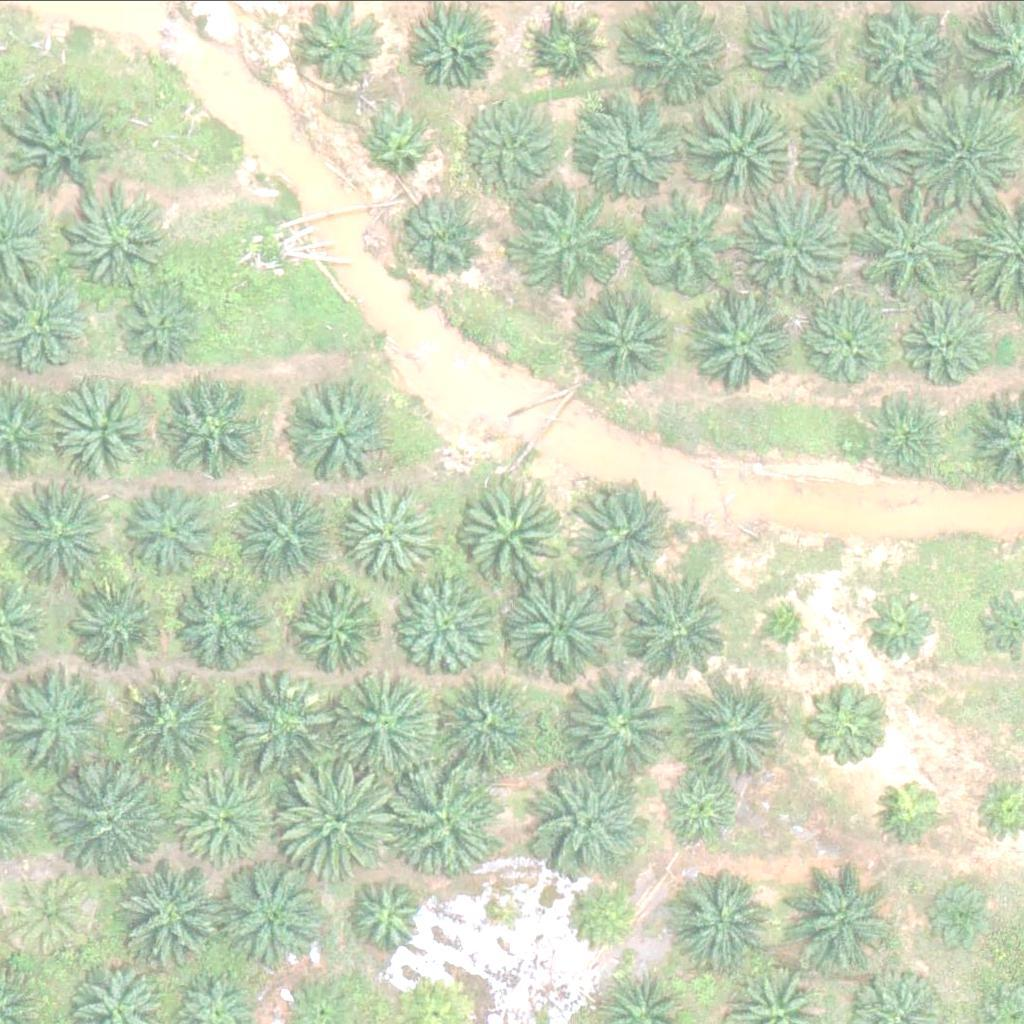Kelapa_Sawit: (909, 90, 1022, 203), (798, 90, 911, 203), (680, 91, 793, 204), (565, 90, 678, 203), (740, 193, 853, 306), (505, 574, 618, 687), (622, 577, 735, 690), (386, 759, 499, 872), (534, 762, 647, 875), (5, 89, 118, 202), (222, 669, 335, 782), (55, 762, 168, 875), (564, 671, 678, 783), (323, 667, 437, 779), (275, 765, 389, 877), (783, 858, 896, 970), (854, 187, 967, 299), (457, 479, 570, 591), (565, 482, 678, 594), (674, 666, 787, 778), (121, 856, 234, 968), (214, 861, 327, 973), (668, 868, 769, 968), (862, 4, 963, 104), (522, 202, 623, 302), (634, 196, 735, 296), (788, 290, 889, 390), (696, 290, 797, 390), (570, 284, 671, 384), (294, 387, 395, 487), (343, 480, 444, 580), (288, 582, 389, 682), (396, 575, 497, 675), (66, 193, 167, 293), (52, 384, 153, 484), (176, 766, 277, 866), (457, 95, 557, 195), (890, 287, 990, 387), (245, 482, 345, 582), (434, 668, 534, 768), (162, 378, 262, 478), (121, 482, 221, 582), (166, 570, 266, 670), (62, 573, 162, 673), (12, 667, 112, 767), (125, 675, 225, 775), (660, 763, 748, 851), (398, 192, 486, 280), (797, 678, 885, 766), (8, 868, 96, 956), (302, 2, 390, 89), (407, 6, 495, 93), (853, 581, 941, 668), (525, 6, 613, 93), (746, 9, 834, 96), (856, 394, 944, 481), (345, 874, 433, 961), (114, 280, 202, 367), (562, 879, 638, 954), (924, 876, 1000, 951), (364, 102, 440, 177), (874, 771, 949, 846), (768, 599, 818, 649)
